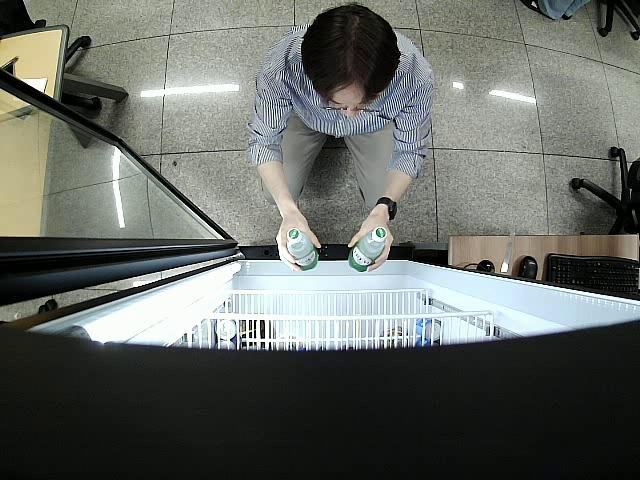00_hand: (276, 218, 322, 271), (348, 221, 394, 271)
18_trevi: (350, 229, 385, 273), (287, 229, 317, 270)
